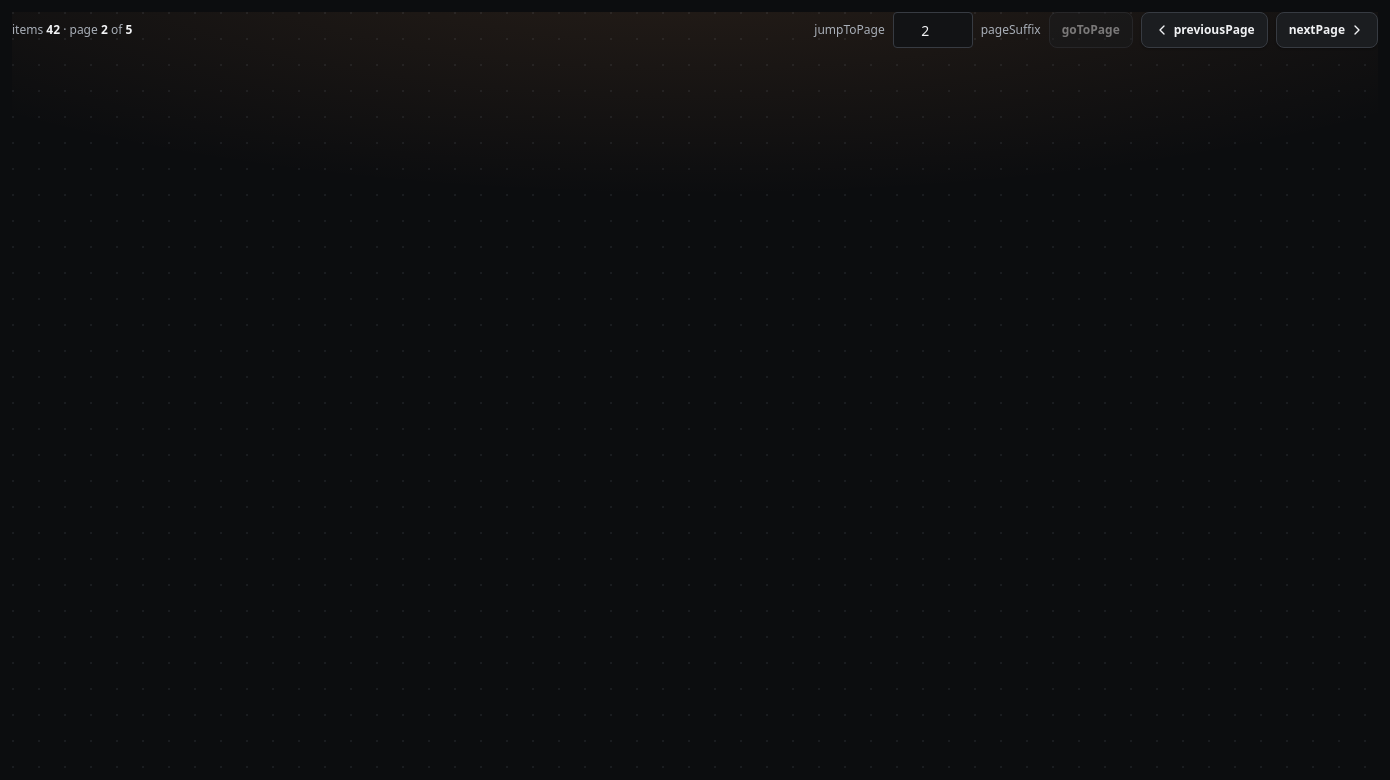
Test: PaginationControls › clamps submitted page jumps to the available range
Replace the text in the number field named "jumpToPageAria" with "99": (933,30) [893,12,973,48]
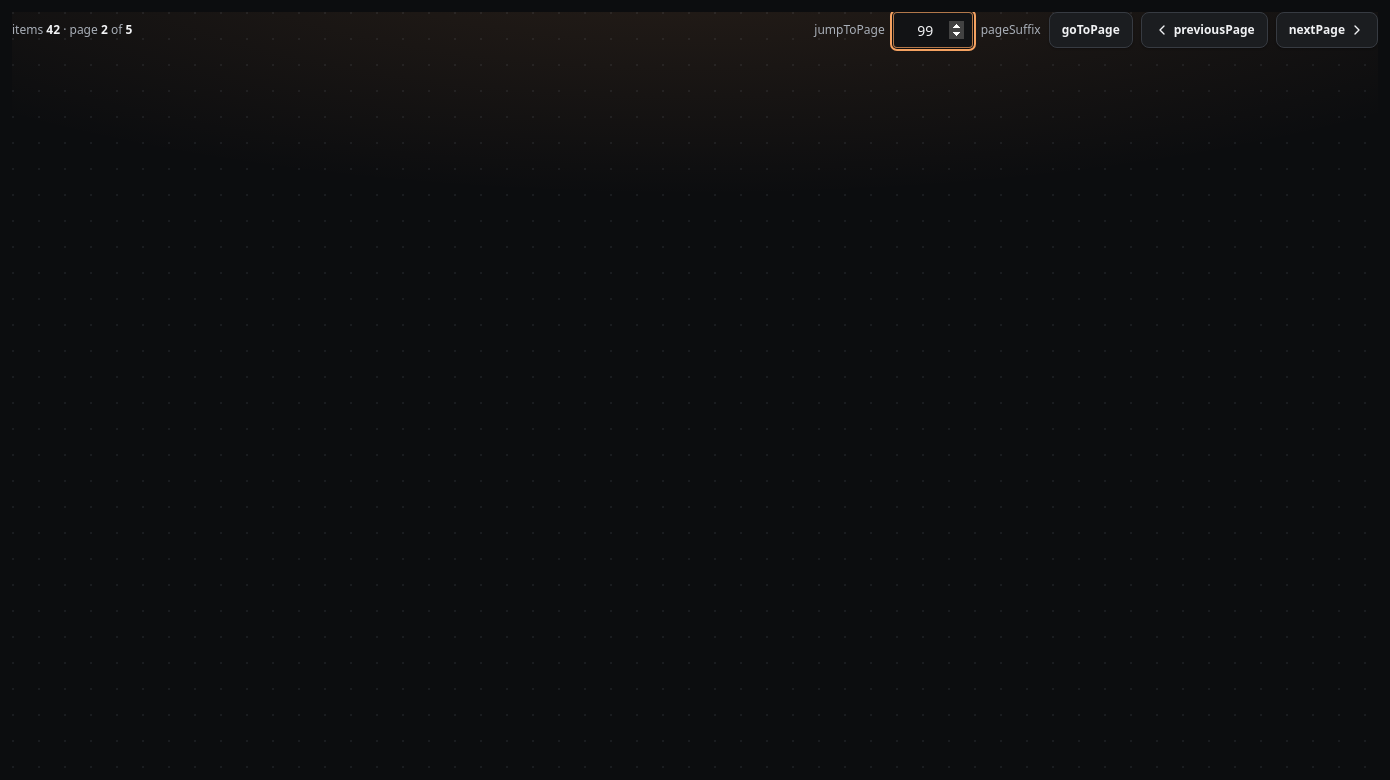
Click the button "goToPage": (1091,30) [1049,12,1133,48]
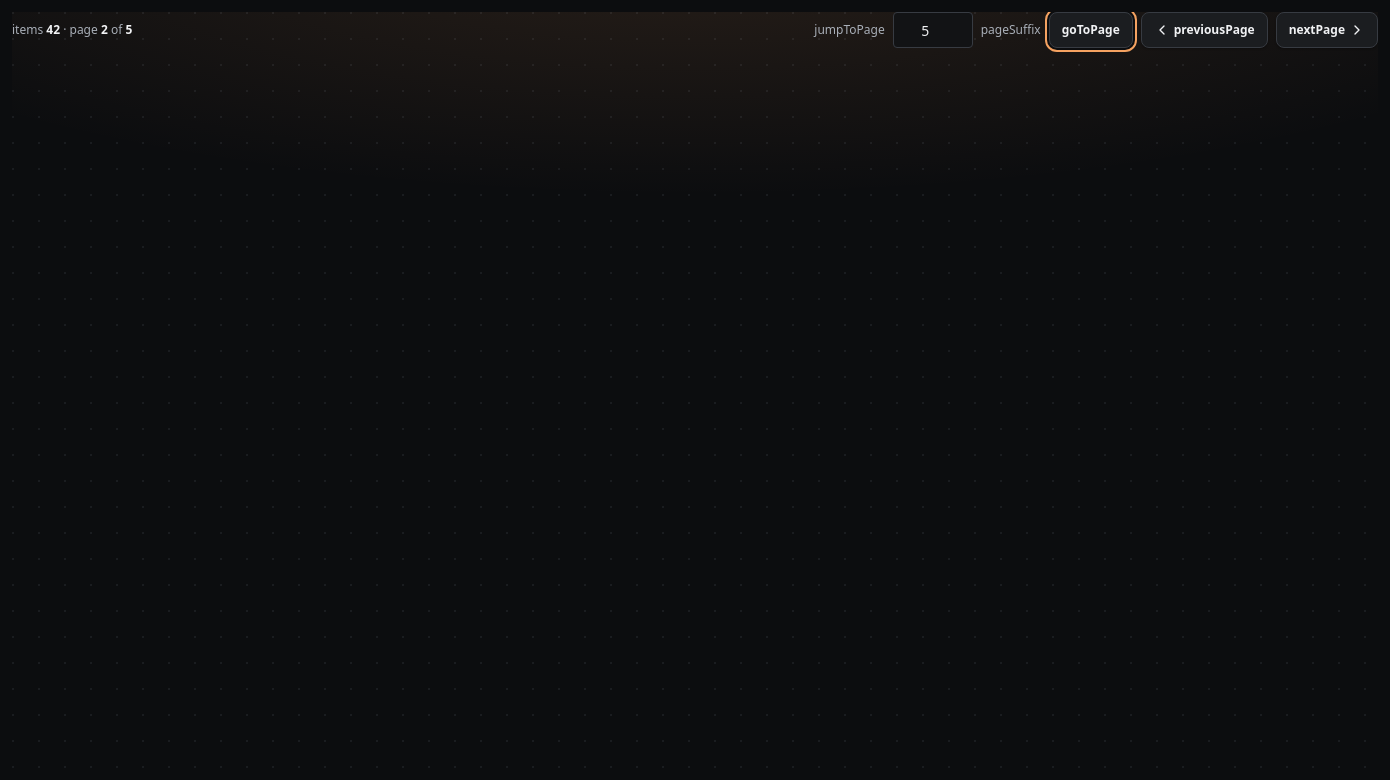
Check: the number field named "jumpToPageAria" holds "5", box [893,12,973,48]
